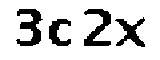2: (83, 5, 115, 52)
3: (14, 5, 45, 48)
c: (48, 16, 76, 48)
x: (113, 15, 150, 49)
